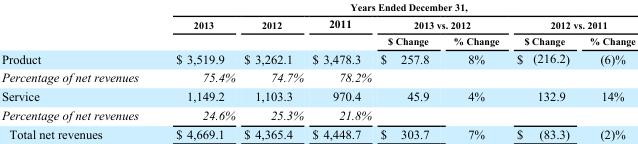table: (0, 1, 634, 141)
table column: (0, 1, 156, 141), (156, 1, 238, 141), (507, 1, 579, 141), (238, 1, 307, 141), (307, 1, 375, 141), (440, 1, 507, 141), (375, 1, 440, 141), (579, 1, 634, 141)
table column header: (0, 1, 634, 48)
table row: (0, 48, 634, 67), (0, 67, 634, 86), (0, 86, 634, 105), (0, 105, 634, 124), (0, 14, 634, 32), (0, 124, 634, 141), (0, 32, 634, 48), (0, 1, 634, 14)
table spanning cell: (156, 1, 634, 14), (156, 14, 238, 48), (375, 14, 507, 32), (238, 14, 307, 48), (307, 14, 375, 48), (507, 14, 634, 32)
